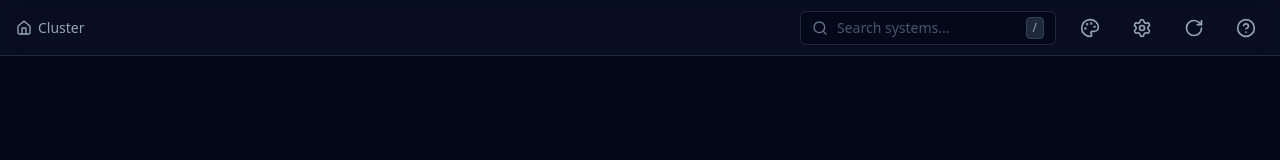
Test case: Navigation component › filters and displays search results
Type "Alpha" into the dropdown with placeholder "Search systems..." at coordinates (928, 28), box [800,10,1056,44]
Wait 200 ms
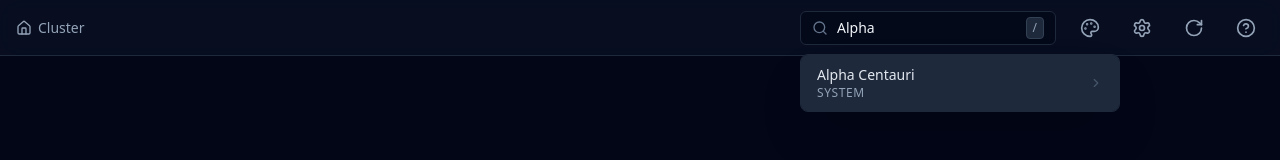
Result: the text "Alpha Centauri" is shown at [817,64,915,84]
Result: the text "system" is shown at [817,84,865,100]
